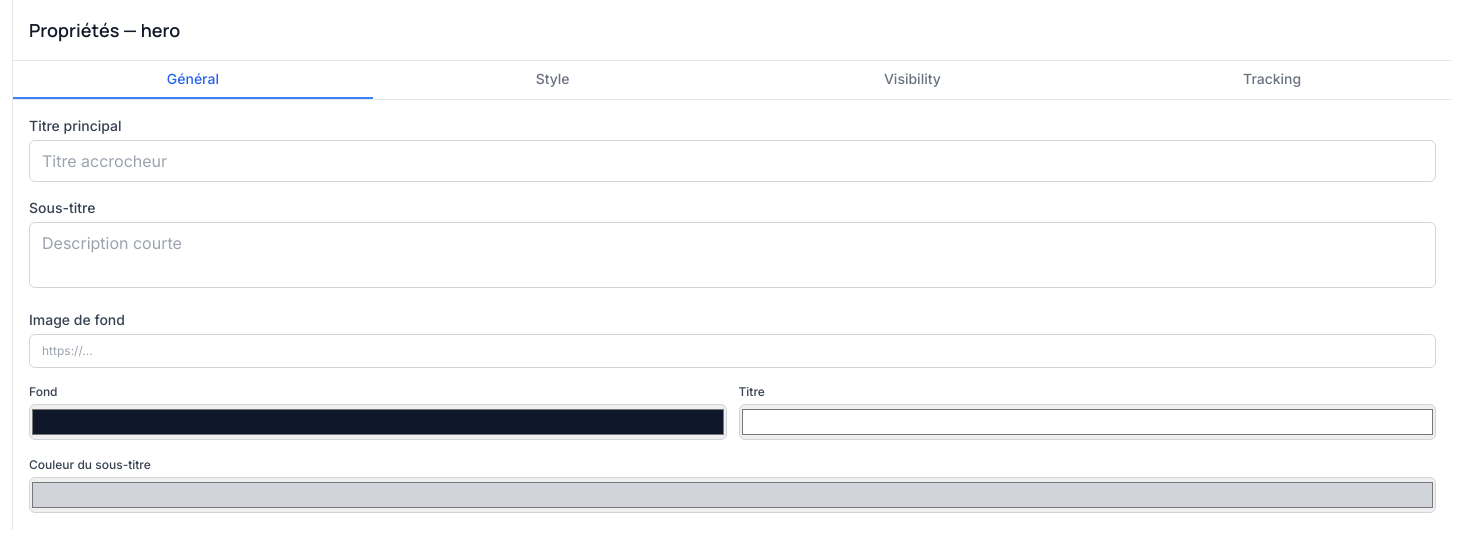
Scenario: PropertiesPanel › affiche le champ de tracking
Click the button "Tracking" at (1272, 80), box [1092, 61, 1452, 99]
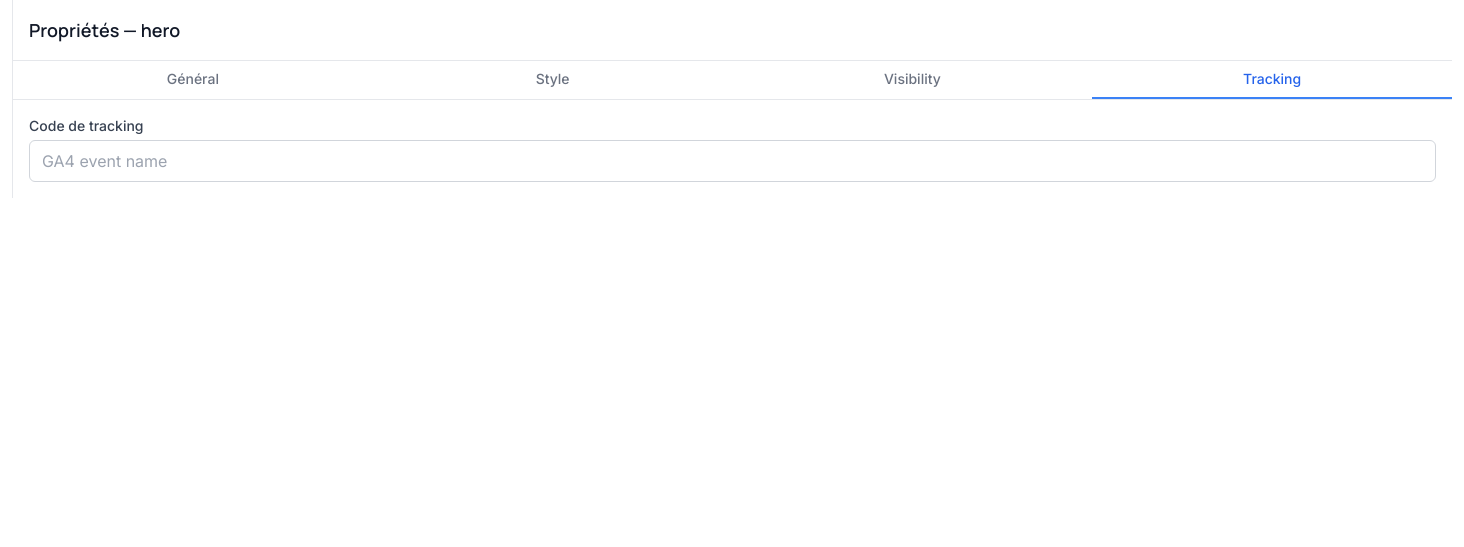
Now the field labelled "Code de tracking" is shown, box [29, 140, 1436, 182]
